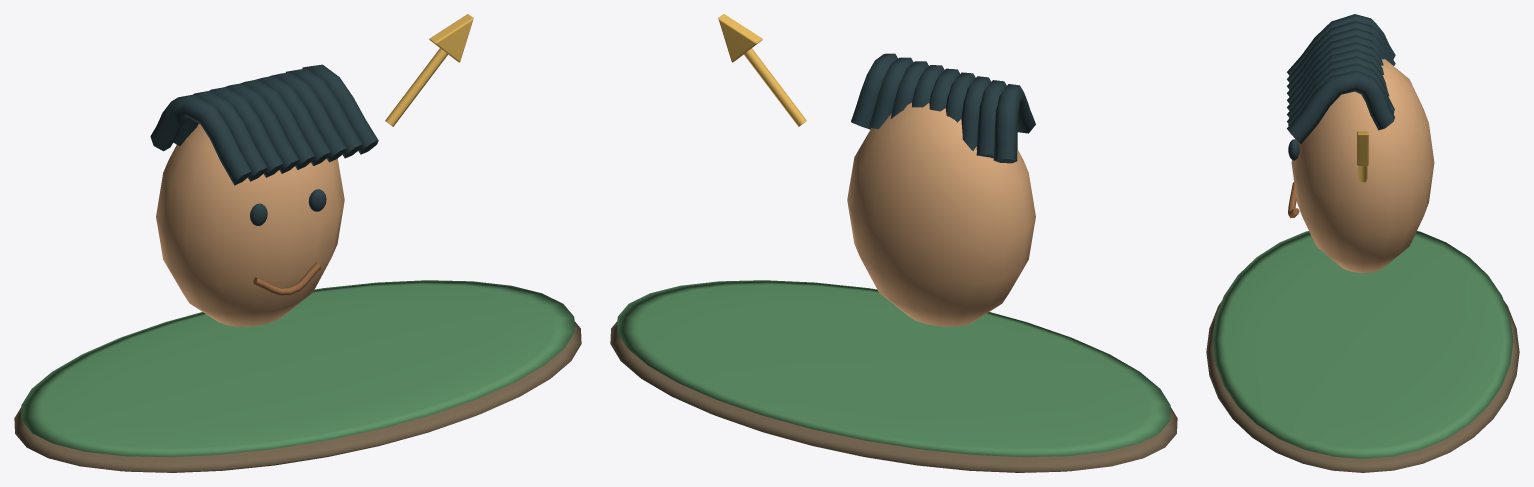
Rendered from growing-hair.glb.
The picture shows the model from 3 angles, left to right: view 1: azimuth 30°, elevation 25°; view 2: azimuth 150°, elevation 25°; view 3: azimuth 270°, elevation 25°; orthographic projection. The views are drawn at different scales.
Visible parts, largest first — view 1: growing-hair_surface_01, growing-hair_surface_02, growing-hair_surface_03, growing-hair_surface_00, growing-hair_surface_05, growing-hair_surface_04; view 2: growing-hair_surface_01, growing-hair_surface_02, growing-hair_surface_03, growing-hair_surface_00, growing-hair_surface_05; view 3: growing-hair_surface_01, growing-hair_surface_02, growing-hair_surface_03, growing-hair_surface_00, growing-hair_surface_05.
Part boxes in pixels (<box>): growing-hair_surface_01: <box>21,280,574,457</box>; growing-hair_surface_02: <box>156,124,344,326</box>; growing-hair_surface_03: <box>150,64,378,225</box>; growing-hair_surface_00: <box>14,321,581,472</box>; growing-hair_surface_05: <box>385,14,473,126</box>; growing-hair_surface_04: <box>253,262,320,295</box>; growing-hair_surface_01: <box>617,280,1170,457</box>; growing-hair_surface_02: <box>847,102,1035,326</box>; growing-hair_surface_03: <box>851,53,1035,163</box>; growing-hair_surface_00: <box>610,321,1177,472</box>; growing-hair_surface_05: <box>718,14,806,126</box>; growing-hair_surface_01: <box>1212,231,1513,458</box>; growing-hair_surface_02: <box>1291,59,1434,273</box>; growing-hair_surface_03: <box>1287,14,1395,160</box>; growing-hair_surface_00: <box>1206,301,1519,472</box>; growing-hair_surface_05: <box>1357,131,1368,182</box>.
Bounding box in the file's own units: 4.56 × 2.72 × 2.5.
